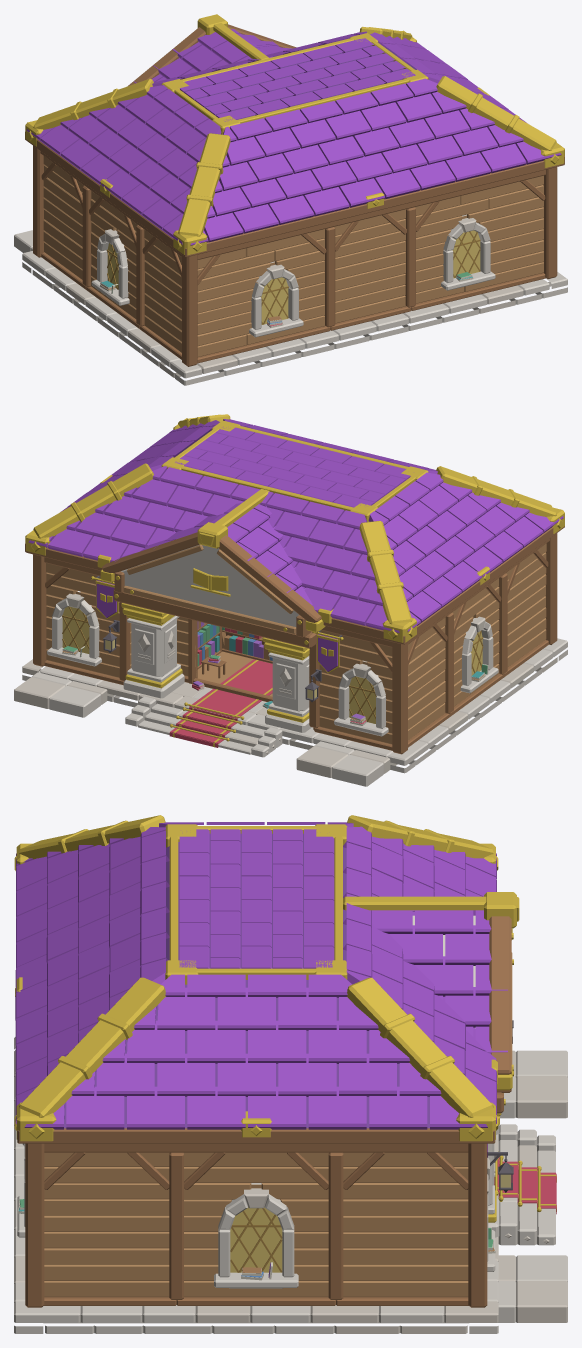
The model's file is dex_hall_roblox.glb.
3 views of the same model, one above another, from view 1: azimuth 30°, elevation 25°; view 2: azimuth 150°, elevation 25°; view 3: azimuth 270°, elevation 25° (orthographic). The views are drawn at different scales.
Visible parts, largest first — view 1: Roof, Body, Glow_ffc53b; view 2: Body, Roof, Glow_ffc53b; view 3: Roof, Body, Glow_ffc53b.
Boxes of the visible parts, x1,y1,x2,y2 form: Roof: (25,26,564,366); Body: (14,14,567,385); Glow_ffc53b: (107,230,480,324); Body: (14,489,567,786); Roof: (25,414,564,754); Glow_ffc53b: (62,606,482,723); Roof: (14,815,498,1307); Body: (14,892,567,1333); Glow_ffc53b: (230,1207,282,1272).
Bounding box in the file's own units: 38 × 19 × 32.
